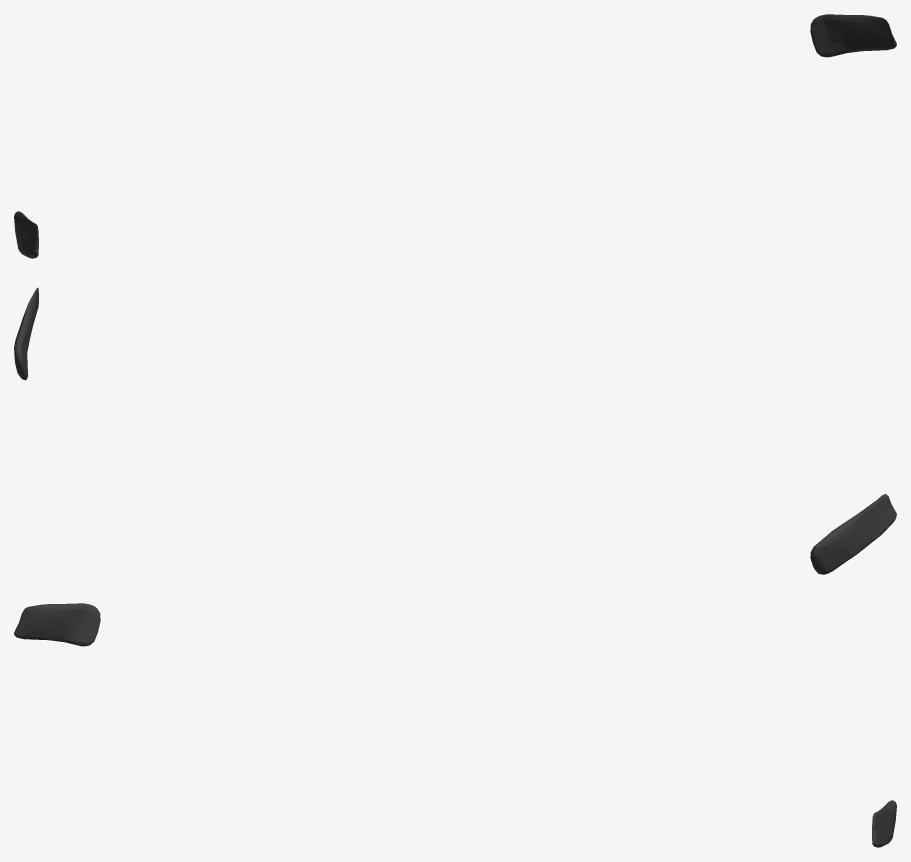
File: lig_accessory_ulnar.glb
The picture shows the model from 3 angles, top to bottom: view 1: azimuth 30°, elevation 25°; view 2: azimuth 150°, elevation 25°; view 3: azimuth 330°, elevation 25°; orthographic projection.
Visible parts, largest first — view 1: lig_accessory_ulnar; view 2: lig_accessory_ulnar; view 3: lig_accessory_ulnar.
Part boxes in pixels (bbox=[...]): lig_accessory_ulnar: bbox=[14, 14, 896, 258]; lig_accessory_ulnar: bbox=[14, 287, 896, 574]; lig_accessory_ulnar: bbox=[14, 603, 896, 847].
Bounding box in the file's own units: 0.00502 × 0.00033 × 0.000527.
Materials: 1 (1 with a texture image).
